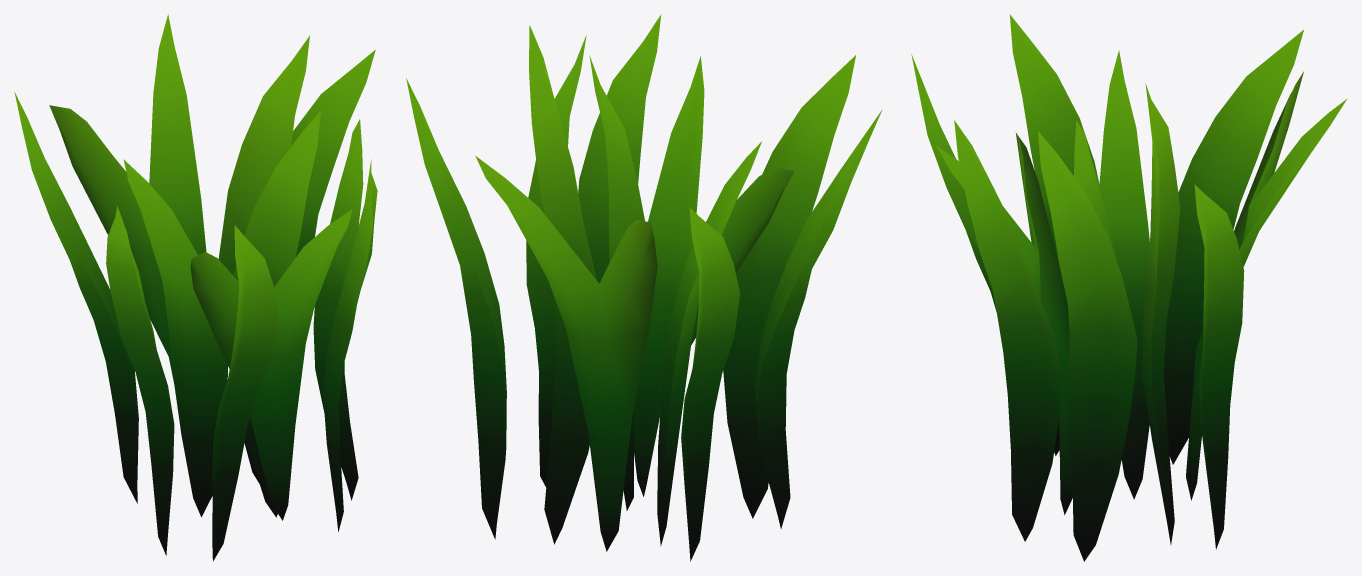
File: Grass_Wide_Short.gltf
The picture shows the model from 3 angles, left to right: view 1: azimuth 30°, elevation 25°; view 2: azimuth 150°, elevation 25°; view 3: azimuth 270°, elevation 25°; orthographic projection. The views are drawn at different scales.
Visible parts, largest first — view 1: Grass_Wide_Short; view 2: Grass_Wide_Short; view 3: Grass_Wide_Short.
Boxes of the visible parts, bbox=[...] form: Grass_Wide_Short: bbox=[14, 14, 377, 561]; Grass_Wide_Short: bbox=[406, 14, 882, 561]; Grass_Wide_Short: bbox=[911, 14, 1347, 561].
Bounding box in the file's own units: 1.04 × 1.3 × 1.07.
1 material, 1 textured.
